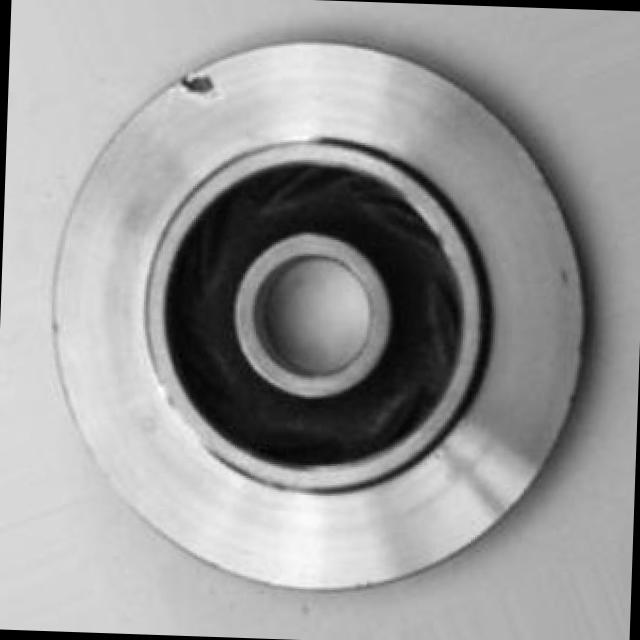Defect: (175, 66, 228, 100)
